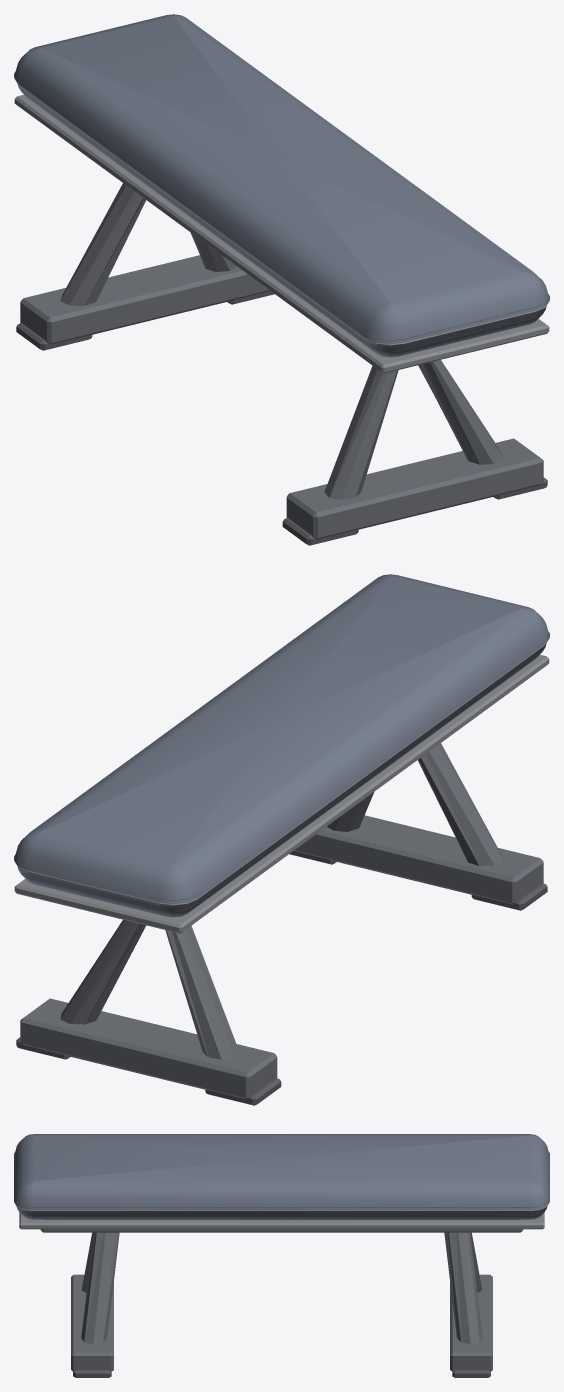
The model's file is bench.glb.
3 renders of one model, top to bottom at view 1: azimuth 30°, elevation 25°; view 2: azimuth 150°, elevation 25°; view 3: azimuth 270°, elevation 25°, orthographic. The views are drawn at different scales.
Visible parts, largest first — view 1: flat-bench; view 2: flat-bench; view 3: flat-bench.
Part boxes in pixels (x1,y1,x2,y2): flat-bench: [14, 14, 549, 545]; flat-bench: [14, 574, 549, 1105]; flat-bench: [14, 1134, 549, 1377].
Bounding box in the file's own units: 0.4599 × 0.458 × 1.24.
